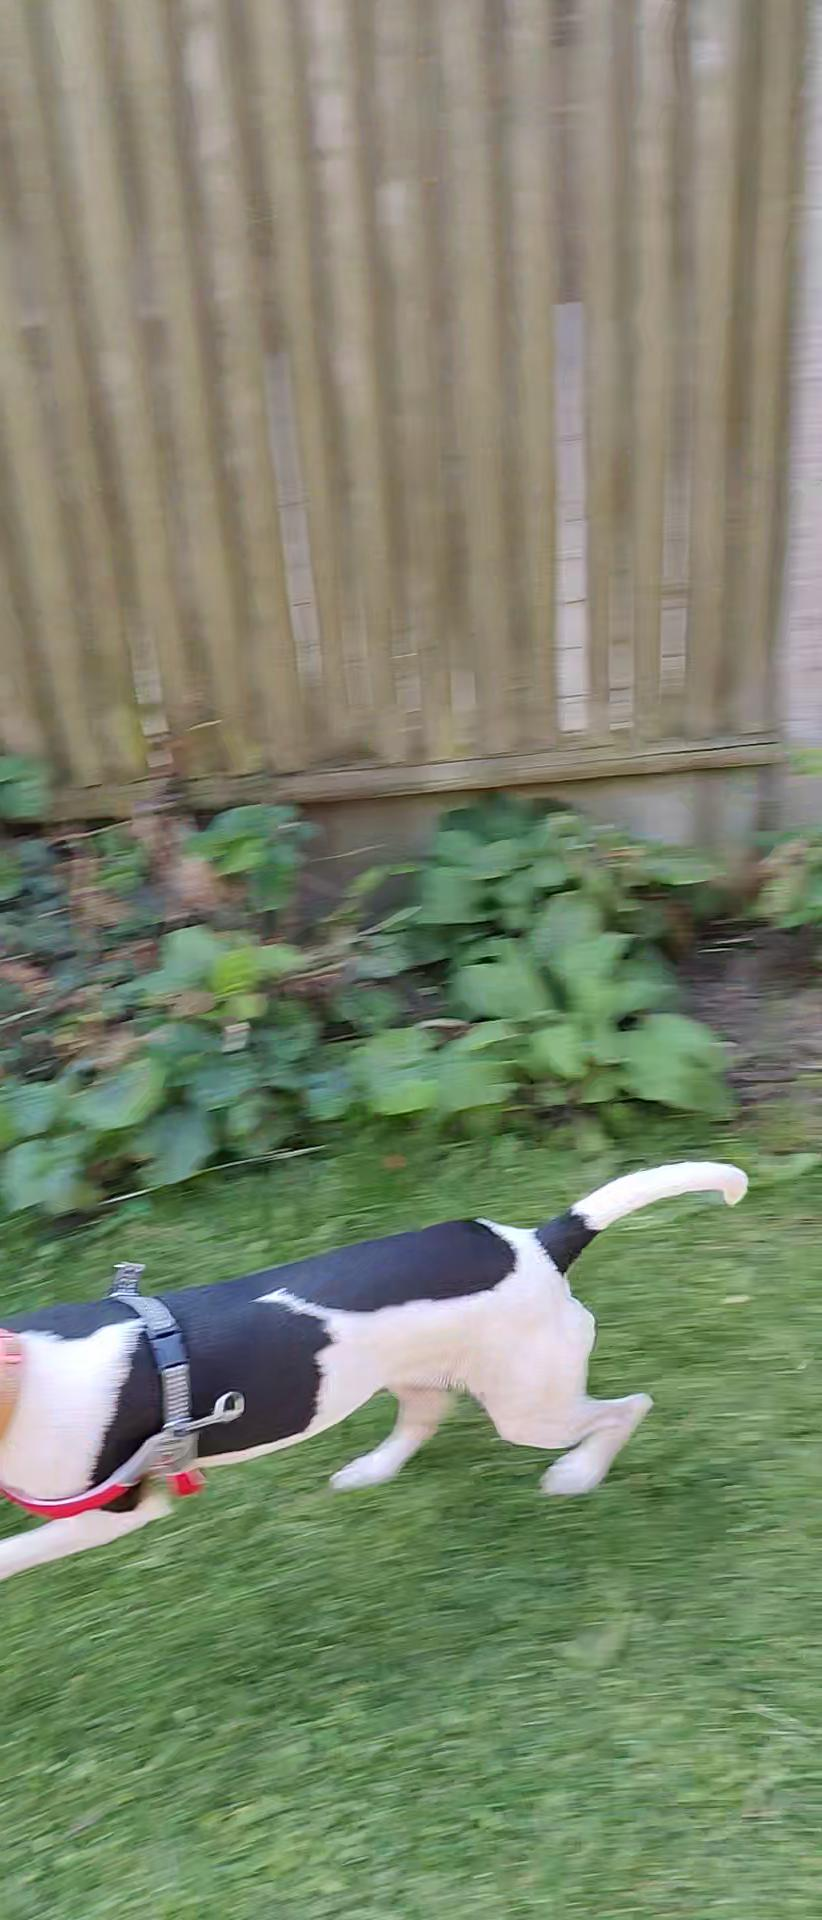Dog: (0, 1142, 753, 1597)
